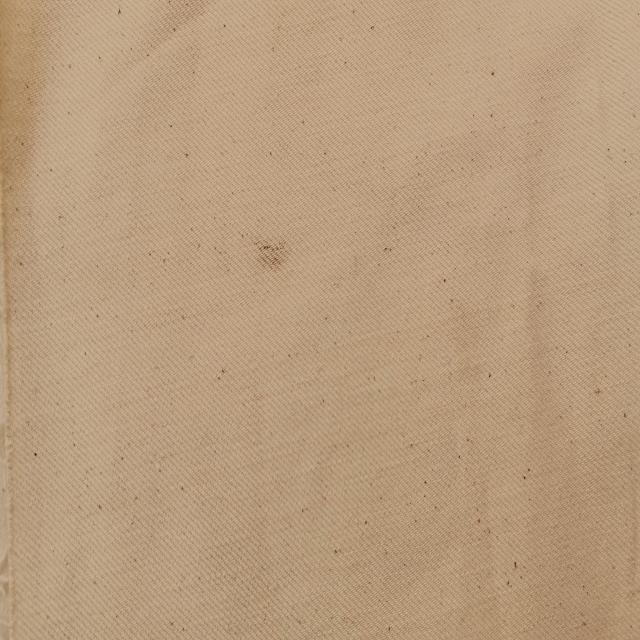taaaches: (245, 214, 291, 277)
